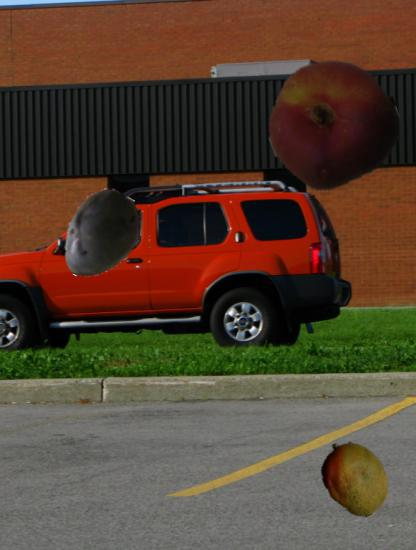Nectarine: (267, 57, 399, 189)
Papaya: (315, 439, 395, 519)
Plum: (54, 189, 149, 284)
